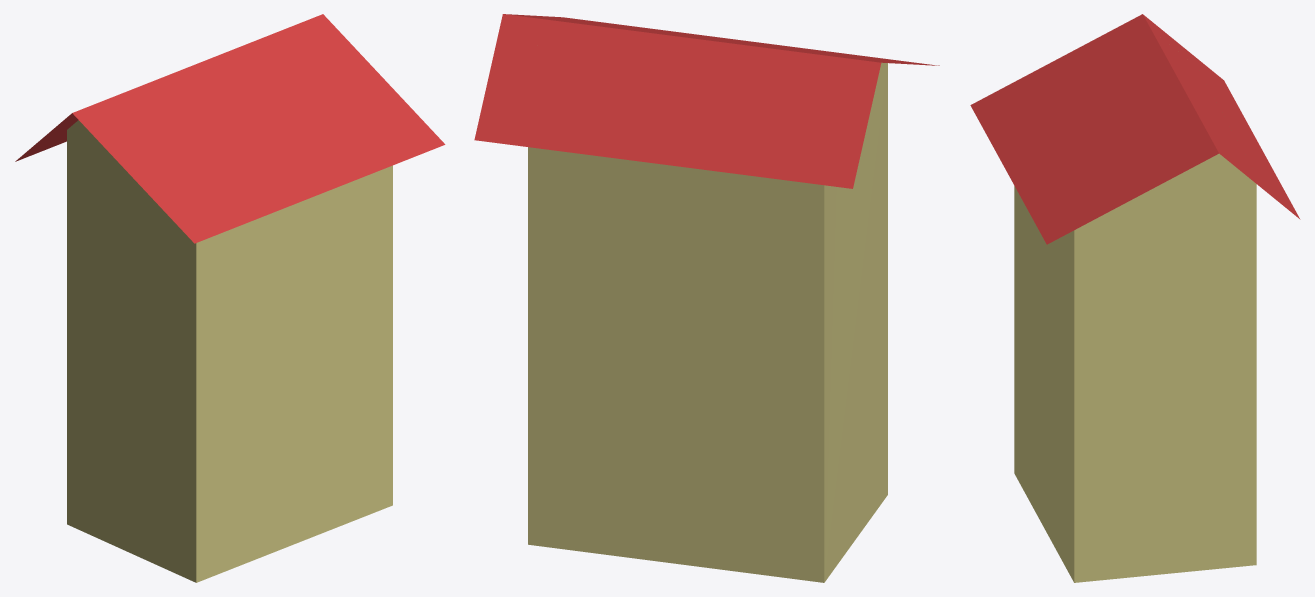
3 renders of one model, left to right at view 1: azimuth 30°, elevation 25°; view 2: azimuth 150°, elevation 25°; view 3: azimuth 270°, elevation 25°, orthographic. The views are drawn at different scales.
Size of the model in its own units: 5.3 by 4.5 by 6.48.
